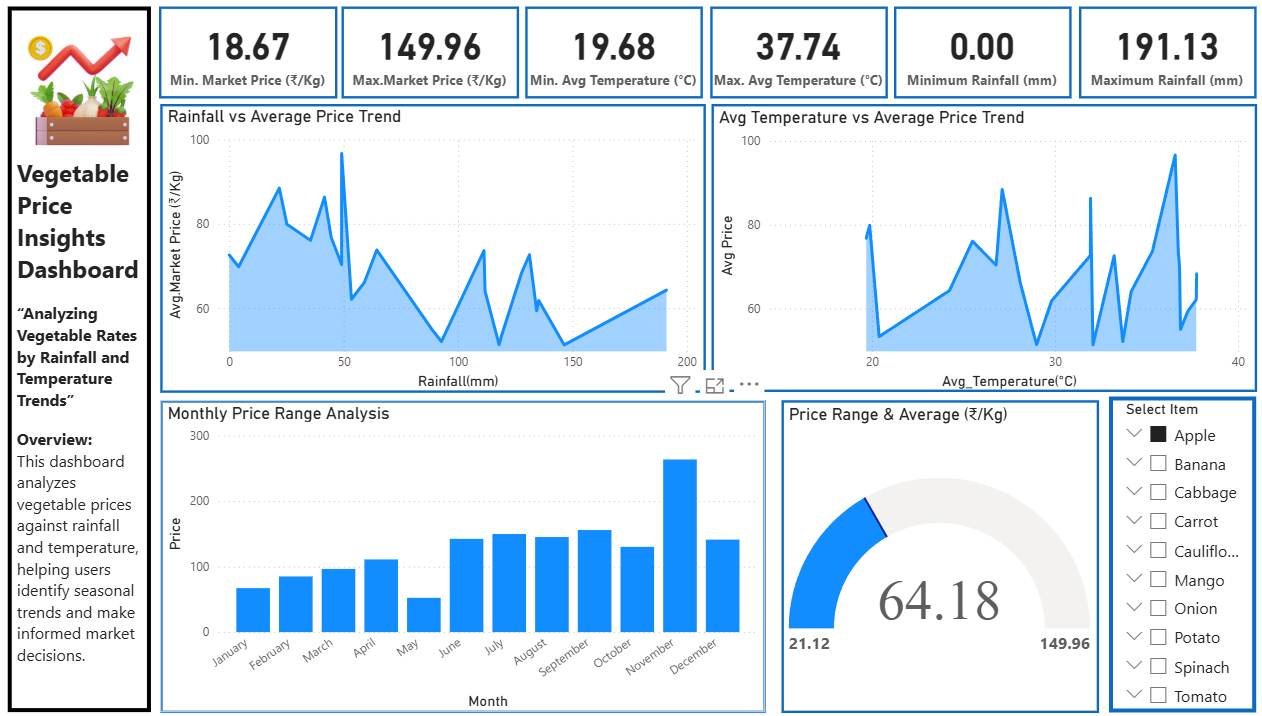

Layout of this report page (visuals, bound fields, positions):
{"tool":"powerbi","page":{"name":"Page 1","canvas":[1280,720],"ordinal":0},"visuals":[{"type":"areaChart","title":"Rainfall vs Average Price Trend","fields":{"Category":["weather_food_prices_dataset - Copy.Rainfall_mm"],"Y":["weather_food_prices.Avg Price"]},"box":[176.1,112.2,545.3,289],"z":0},{"type":"card","fields":{"Values":["weather_food_prices.Minimum Rainfall (mm)"]},"box":[910.9,14.5,177.3,91.7],"z":1000},{"type":"areaChart","title":"Avg Temperature vs Average Price Trend","fields":{"Category":["weather_food_prices_dataset - Copy.Avg_Temp_C"],"Y":["VegetablePriceWeather.Avg Price"]},"box":[727.5,112.2,545.3,288.3],"z":2000},{"type":"card","fields":{"Values":["weather_food_prices.Maximum Rainfall (mm)"]},"box":[1095.4,14.5,177.3,91.7],"z":3000},{"type":"slicer","fields":{"Values":["weather_food_prices_dataset - Copy.Item","weather_food_prices.Avg_Temp_C"]},"box":[1125.6,403.9,147.2,316.1],"z":4000},{"type":"card","fields":{"Values":["weather_food_prices.Min. Temperature (°C)"]},"box":[541.7,14.5,177.3,91.7],"z":5000},{"type":"columnChart","title":"Monthly Price Range Analysis","fields":{"Category":["weather_food_prices_dataset - Copy.Date.Variation.Date Hierarchy.Month"],"Y":["Sum(weather_food_prices_dataset - Copy.Price_Rs_perKg)"]},"box":[176.1,407.8,605.6,312.5],"z":6000},{"type":"card","fields":{"Values":["weather_food_prices.Max. Temperature (°C)"]},"box":[726.3,14.5,177.3,91.7],"z":7000},{"type":"textbox","box":[24.1,14.5,143.6,705.8],"z":8000},{"type":"gauge","title":"Price Range & Average (₹/Kg)","fields":{"MaxValue":["Max(weather_food_prices_dataset - Copy.Price_Rs_perKg)"],"Y":["Avg(weather_food_prices.Price_Rs_perKg)"],"TargetValue":["Avg(weather_food_prices.Price_Rs_perKg)"],"MinValue":["Min(weather_food_prices.Price_Rs_perKg)"]},"box":[797.5,407.8,317.3,312.5],"z":9000},{"type":"card","fields":{"Values":["weather_food_prices.Max.Market Price (₹/Kg)"]},"box":[358.3,14.5,177.3,91.7],"z":10000},{"type":"card","fields":{"Values":["weather_food_prices.Min. Market Price (₹/Kg)"]},"box":[174.8,14.4,178.5,91.7],"z":11000},{"type":"image","box":[31.4,31.4,129.1,129.1],"z":12000}]}

Visuals, with their boxes in screenshot pixels (x1, y1, x2, y2), scaled from the page's 1280x720 canvas onto the 1262x716 screenshot:
"Rainfall vs Average Price Trend" areaChart: 174:112:711:399
card - weather_food_prices.Minimum Rainfall (mm): 898:14:1073:106
"Avg Temperature vs Average Price Trend" areaChart: 717:112:1255:398
card - weather_food_prices.Maximum Rainfall (mm): 1080:14:1255:106
slicer - weather_food_prices_dataset - Copy.Item x weather_food_prices.Avg_Temp_C: 1110:402:1255:715
card - weather_food_prices.Min. Temperature (°C): 534:14:709:106
"Monthly Price Range Analysis" columnChart: 174:406:771:715
card - weather_food_prices.Max. Temperature (°C): 716:14:891:106
textbox: 24:14:165:715
"Price Range & Average (₹/Kg)" gauge: 786:406:1099:715
card - weather_food_prices.Max.Market Price (₹/Kg): 353:14:528:106
card - weather_food_prices.Min. Market Price (₹/Kg): 172:14:348:106
image: 31:31:158:160
